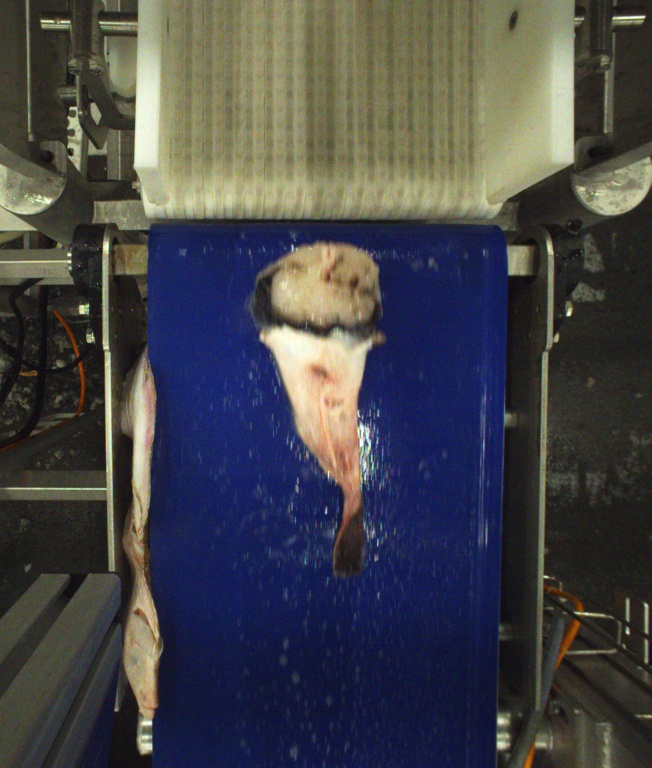ANF: (252, 240, 385, 578)
